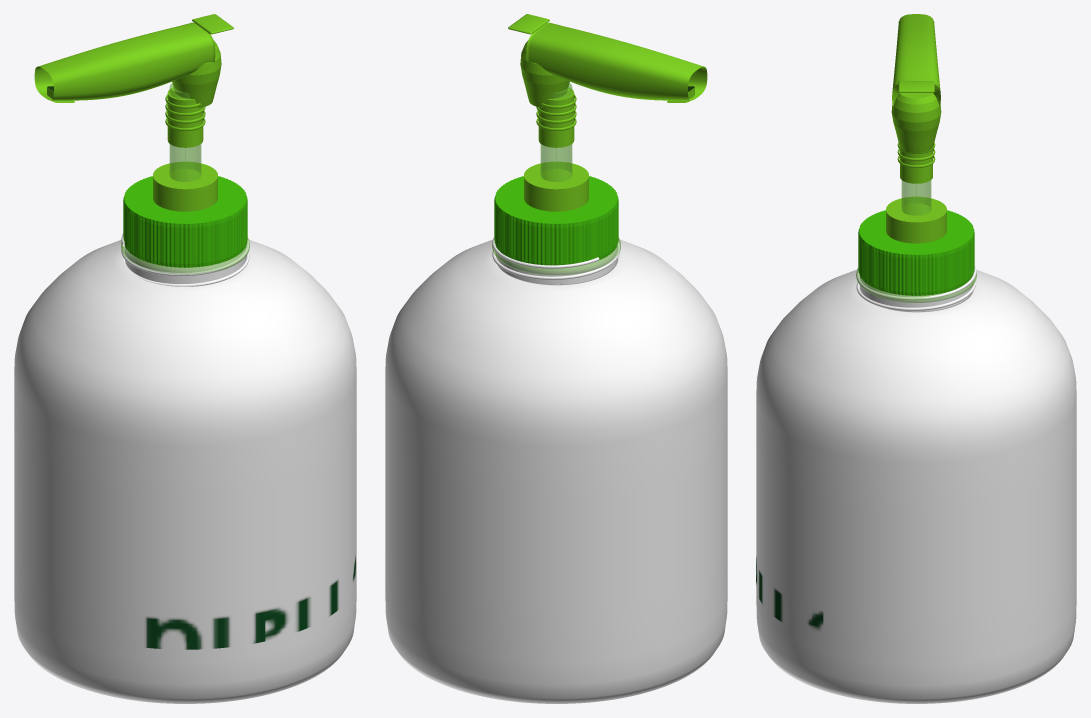
Rendered from hand_wash_uv2.glb.
The picture shows the model from 3 angles, left to right: view 1: azimuth 30°, elevation 25°; view 2: azimuth 150°, elevation 25°; view 3: azimuth 270°, elevation 25°; orthographic projection. The views are drawn at different scales.
Parts seen in each view (by area): view 1: bottle_shell, pump_spout, pump_collar, front_print, pump_housing, bottle_neck, pump_root_transition, pump_thread_sleeve, pump_stem, neck_thread, pump_gasket; view 2: bottle_shell, pump_spout, pump_collar, pump_housing, bottle_neck, pump_root_transition, pump_thread_sleeve, pump_stem, neck_thread, pump_gasket; view 3: bottle_shell, pump_collar, pump_spout, pump_housing, pump_root_transition, bottle_neck, neck_thread, pump_stem, pump_thread_sleeve, pump_gasket, front_print.
Boxes of the visible parts, x1,y1,x2,y2 form: bottle_shell: (14, 239, 356, 703); pump_spout: (34, 22, 215, 100); pump_collar: (123, 176, 247, 267); front_print: (144, 555, 355, 649); pump_housing: (153, 162, 217, 211); bottle_neck: (125, 247, 245, 283); pump_root_transition: (172, 41, 221, 107); pump_thread_sleeve: (167, 87, 203, 147); pump_stem: (169, 83, 201, 181); neck_thread: (121, 233, 249, 286); pump_gasket: (121, 238, 249, 274); bottle_shell: (385, 239, 727, 703); pump_spout: (526, 22, 707, 100); pump_collar: (494, 176, 618, 265); pump_housing: (524, 162, 588, 211); bottle_neck: (496, 247, 616, 284); pump_root_transition: (520, 41, 569, 107); pump_thread_sleeve: (538, 87, 574, 147); pump_stem: (540, 83, 572, 181); neck_thread: (492, 237, 620, 279); pump_gasket: (492, 238, 620, 275); bottle_shell: (756, 269, 1076, 703); pump_collar: (858, 210, 974, 295); pump_spout: (892, 14, 940, 106); pump_housing: (886, 197, 946, 243); pump_root_transition: (891, 93, 941, 152); bottle_neck: (860, 277, 972, 311); neck_thread: (856, 265, 976, 310); pump_stem: (901, 180, 931, 215); pump_thread_sleeve: (900, 150, 932, 183); pump_gasket: (856, 268, 976, 302); front_print: (756, 556, 823, 631).
Size of what is drawn, in the model's own units: 0.124 by 0.2416 by 0.1241.
11 materials, 2 textured.
